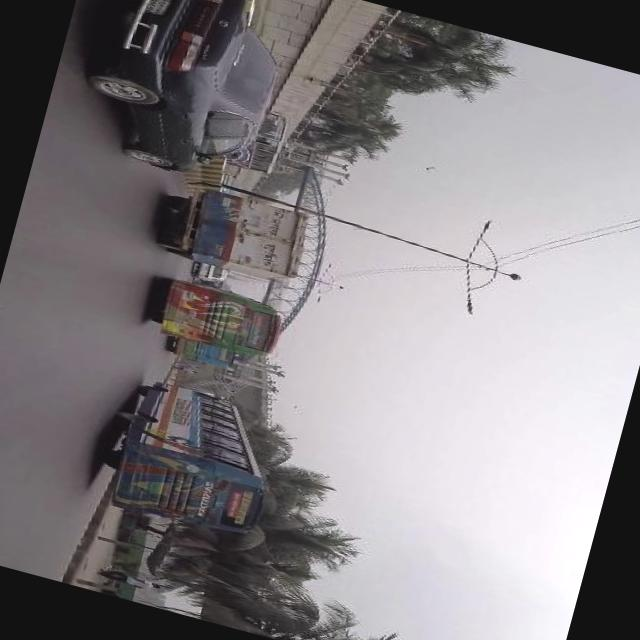bus: (94, 372, 287, 546), (140, 272, 288, 365), (228, 104, 296, 178), (165, 334, 238, 370)
car: (65, 0, 298, 193)
truck: (150, 178, 314, 289), (188, 260, 226, 286)
